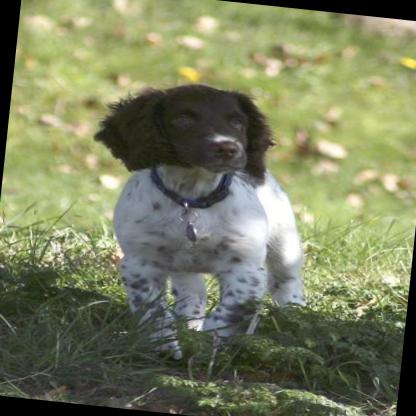English_springer: (61, 66, 332, 374)
